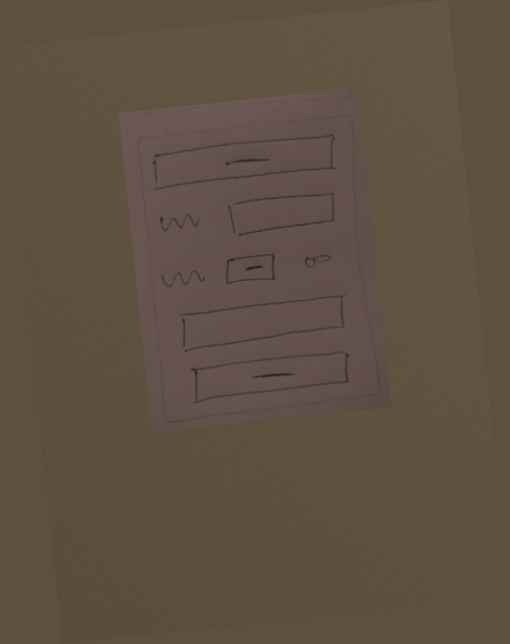button: (147, 130, 341, 195), (183, 347, 358, 409), (219, 248, 283, 291)
switch: (295, 244, 336, 276)
text: (153, 206, 205, 237), (158, 261, 209, 291)
text_input: (173, 289, 355, 355), (222, 186, 342, 241)
